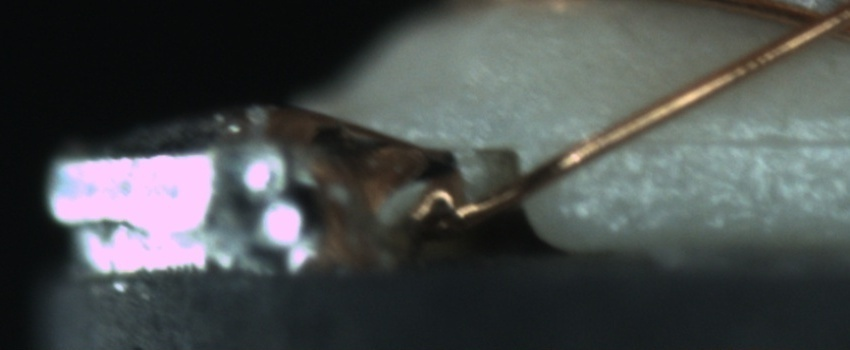CL: (769, 3, 848, 53)
DL: (620, 105, 847, 173)
